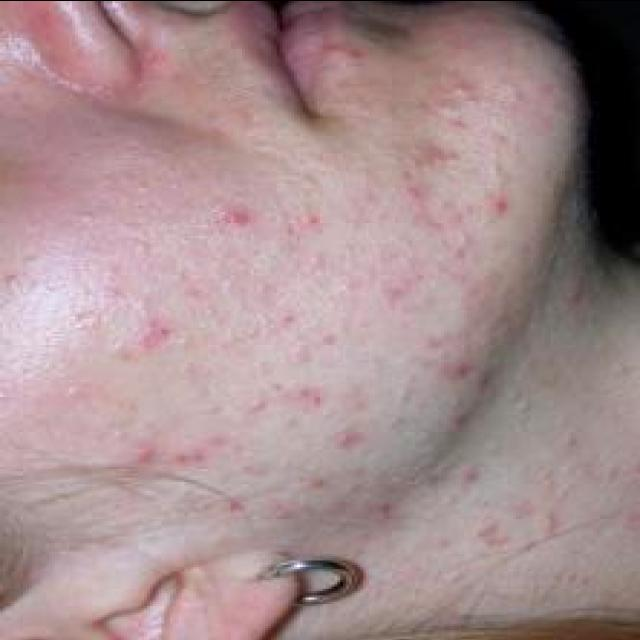Acne: (406, 136, 462, 173), (130, 316, 178, 352), (207, 199, 256, 233), (279, 212, 327, 240), (441, 67, 477, 100), (324, 426, 368, 452), (128, 437, 162, 469), (450, 462, 488, 488), (294, 384, 326, 409), (169, 448, 209, 468), (484, 192, 514, 218), (441, 357, 474, 380), (398, 184, 432, 204)
